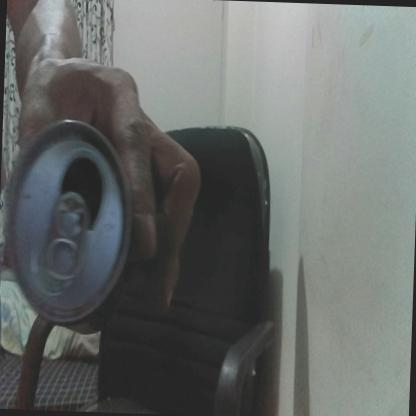alumunium_can: (3, 116, 127, 312)
